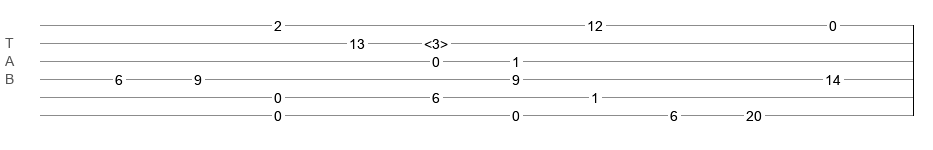0: (274, 90, 282, 100), (274, 108, 282, 118), (432, 54, 440, 64), (512, 108, 520, 118), (829, 18, 837, 28)
1: (512, 54, 520, 64), (591, 90, 599, 100)
12: (587, 18, 603, 28)
13: (349, 36, 365, 46)
14: (825, 72, 841, 82)
2: (274, 18, 282, 28)
20: (746, 108, 762, 118)
6: (115, 72, 123, 82), (432, 90, 440, 100), (670, 108, 678, 118)
9: (194, 72, 202, 82), (512, 72, 520, 82)
harmonic: (424, 36, 448, 46)
